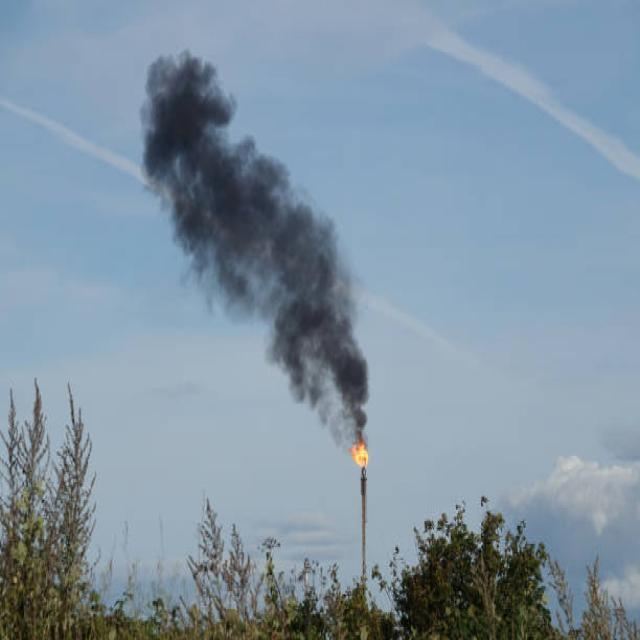Fire: (348, 439, 370, 472)
Smoke: (136, 45, 370, 438)
